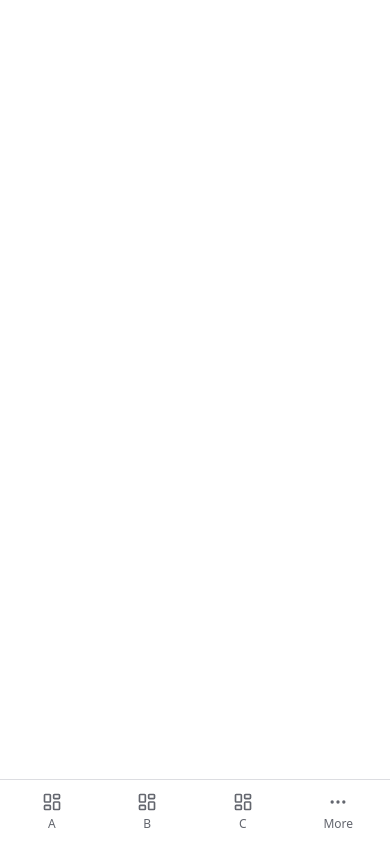
Test: collapses items past the 4-slot cap into a More sheet
expect the number of links is 3: met, box [42,792,62,832]; [137,792,157,832]; [233,792,253,832]
expect the link "D" is not shown: met
Step 1. Click the button "More" → (338, 812), box [290,784,386,840]
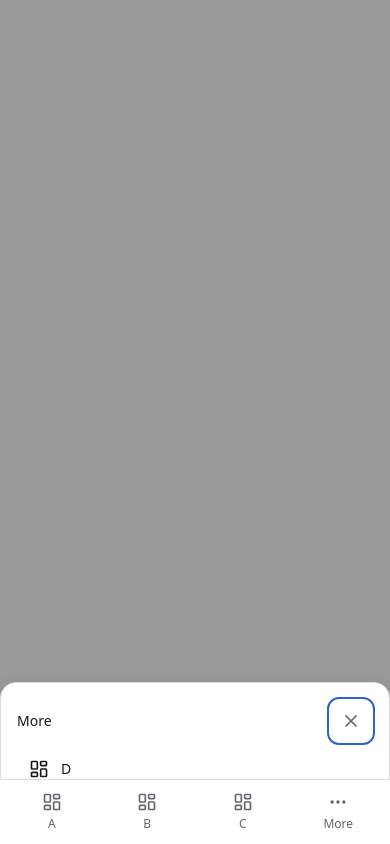
expect the dialog shows "e": met, box [17,791,373,827]
expect the dialog shows "D": met, box [17,751,373,787]
